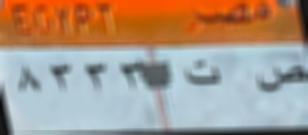3: (113, 59, 144, 95), (46, 59, 74, 98), (83, 58, 110, 97)
8: (13, 66, 43, 100)
saad: (255, 58, 305, 99)
taa: (180, 58, 224, 92)
